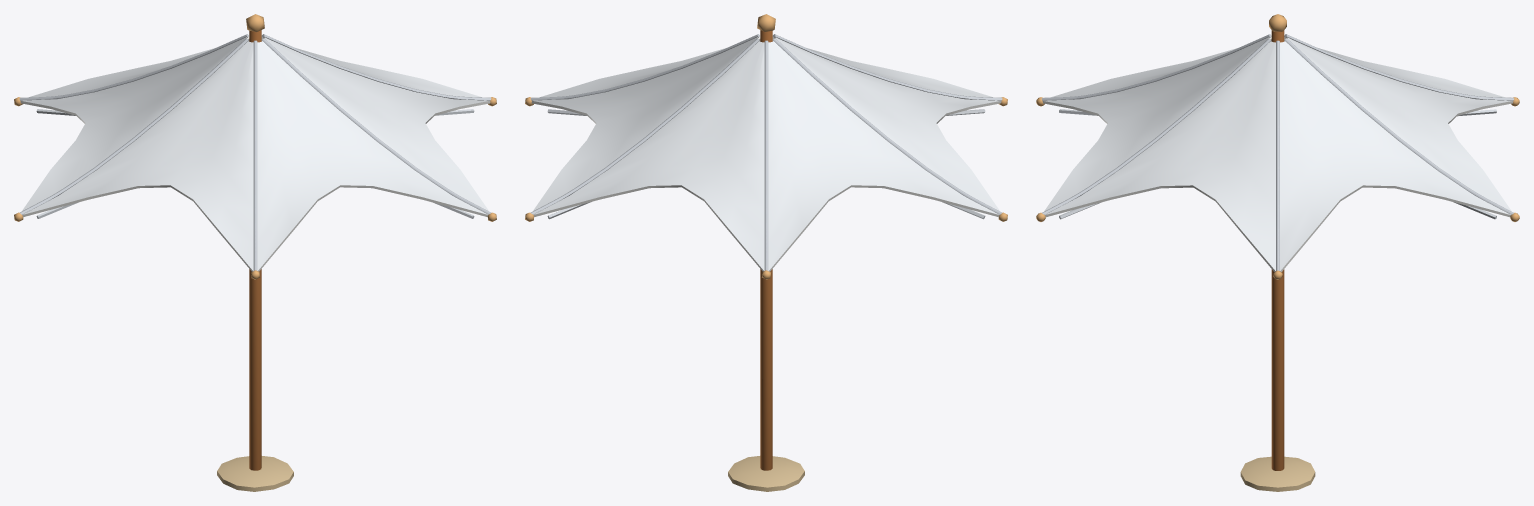
Rendered from guarda_sol_praia_estrela.glb.
3 renders of one model, left to right at view 1: azimuth 30°, elevation 25°; view 2: azimuth 150°, elevation 25°; view 3: azimuth 270°, elevation 25°, orthographic.
Parts seen in each view (by area): view 1: guarda_sol_praia_estrela; view 2: guarda_sol_praia_estrela; view 3: guarda_sol_praia_estrela.
Part boxes in pixels (x1,y1,x2,y2): guarda_sol_praia_estrela: (14, 14, 496, 491); guarda_sol_praia_estrela: (525, 14, 1007, 491); guarda_sol_praia_estrela: (1036, 14, 1519, 491).
Bounding box in the file's own units: 3.15 × 2.91 × 2.74.
1 material, 1 textured.
